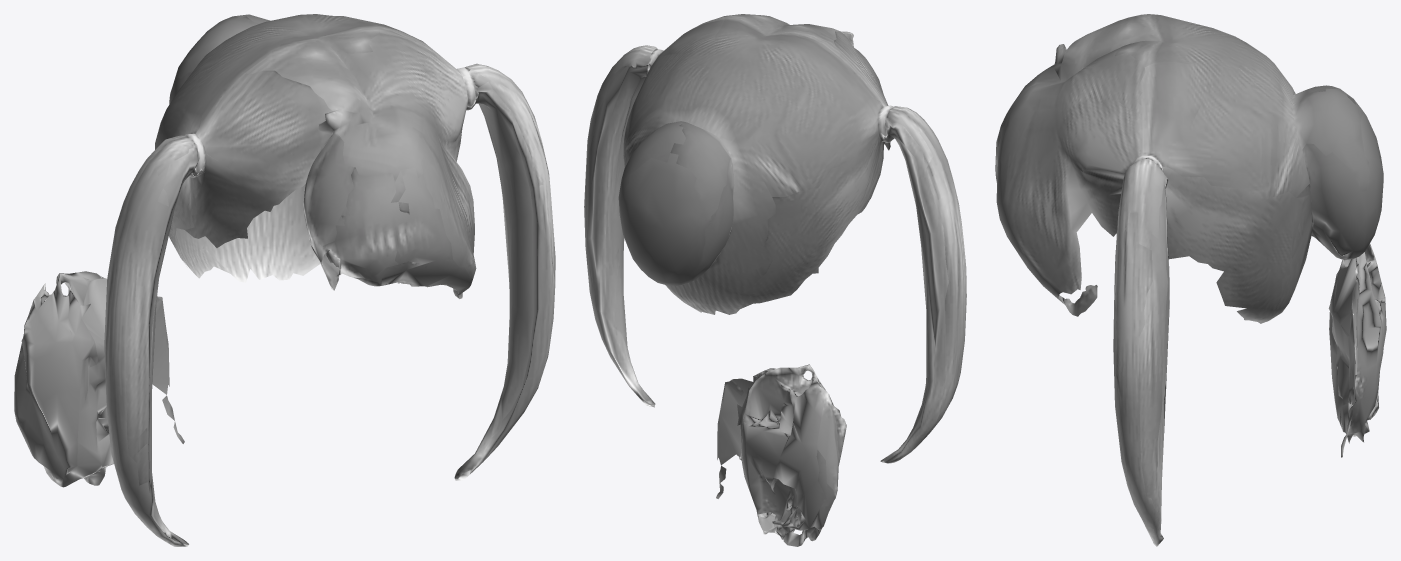
File: twin-tails.glb
3 views of the same model, side by side, from view 1: azimuth 30°, elevation 25°; view 2: azimuth 150°, elevation 25°; view 3: azimuth 270°, elevation 25° (orthographic). The views are drawn at different scales.
Visible parts, largest first — view 1: twin-tails; view 2: twin-tails; view 3: twin-tails.
Part boxes in pixels (bbox=[...]): twin-tails: bbox=[14, 14, 555, 546]; twin-tails: bbox=[584, 14, 966, 546]; twin-tails: bbox=[995, 14, 1386, 546].
Bounding box in the file's own units: 0.2872 × 0.3082 × 0.2363.
Materials: 1 (1 with a texture image).
